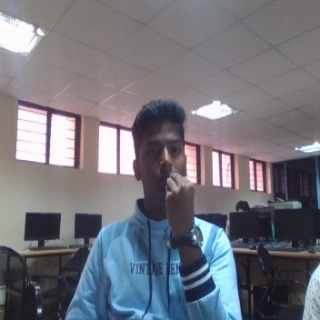Food: (163, 172, 197, 237)
